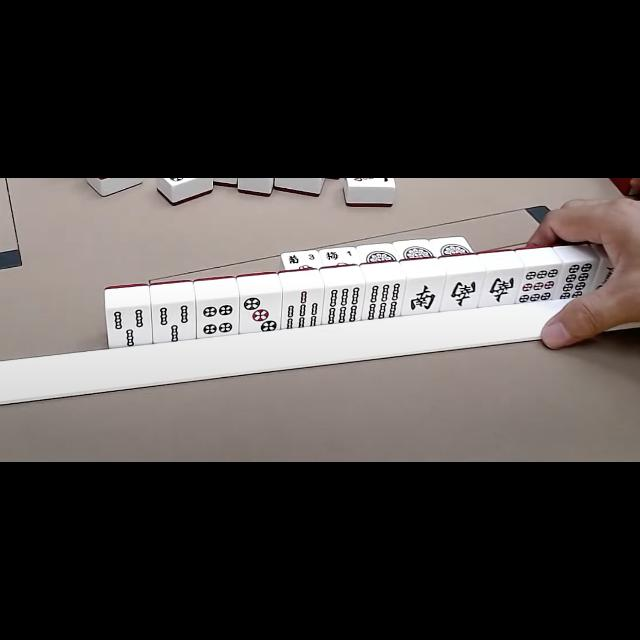b3: (108, 306, 150, 346), (153, 303, 195, 341)
b6: (324, 286, 362, 324), (365, 282, 403, 320)
b7: (282, 288, 322, 330)
d3: (237, 294, 281, 334)
d4: (195, 298, 238, 338)
d8: (558, 260, 596, 300)
d9: (520, 266, 560, 304)
f1: (322, 248, 358, 262)
f3: (284, 251, 320, 267)
ws: (444, 274, 482, 310), (405, 278, 443, 314), (483, 270, 519, 306)
